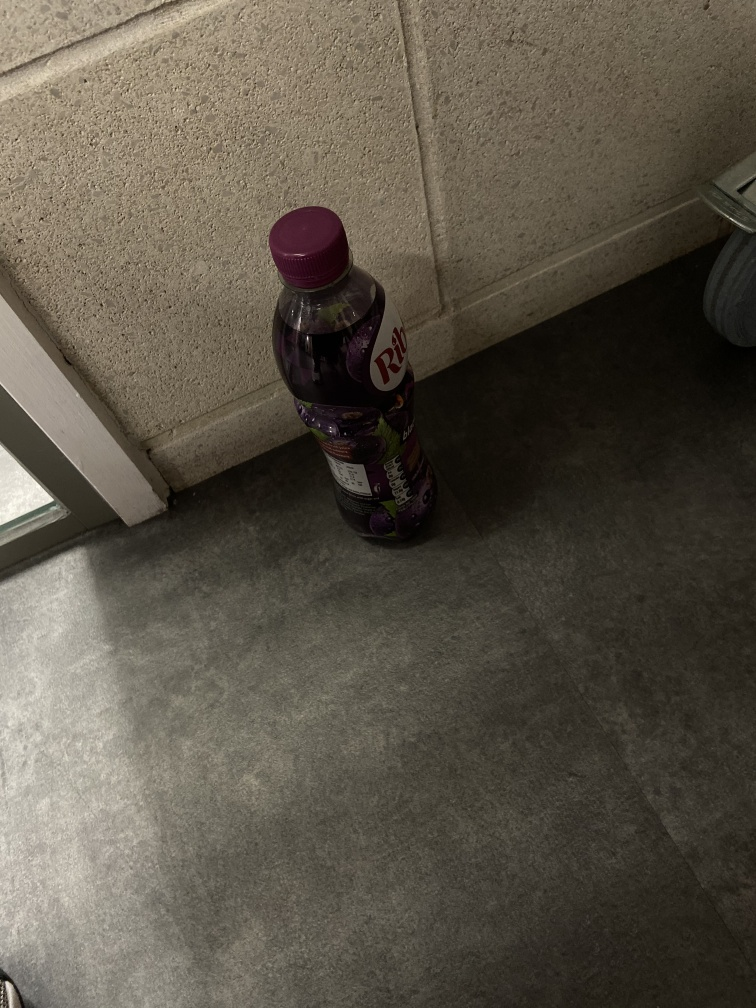bottle_purple: (261, 199, 453, 550)
